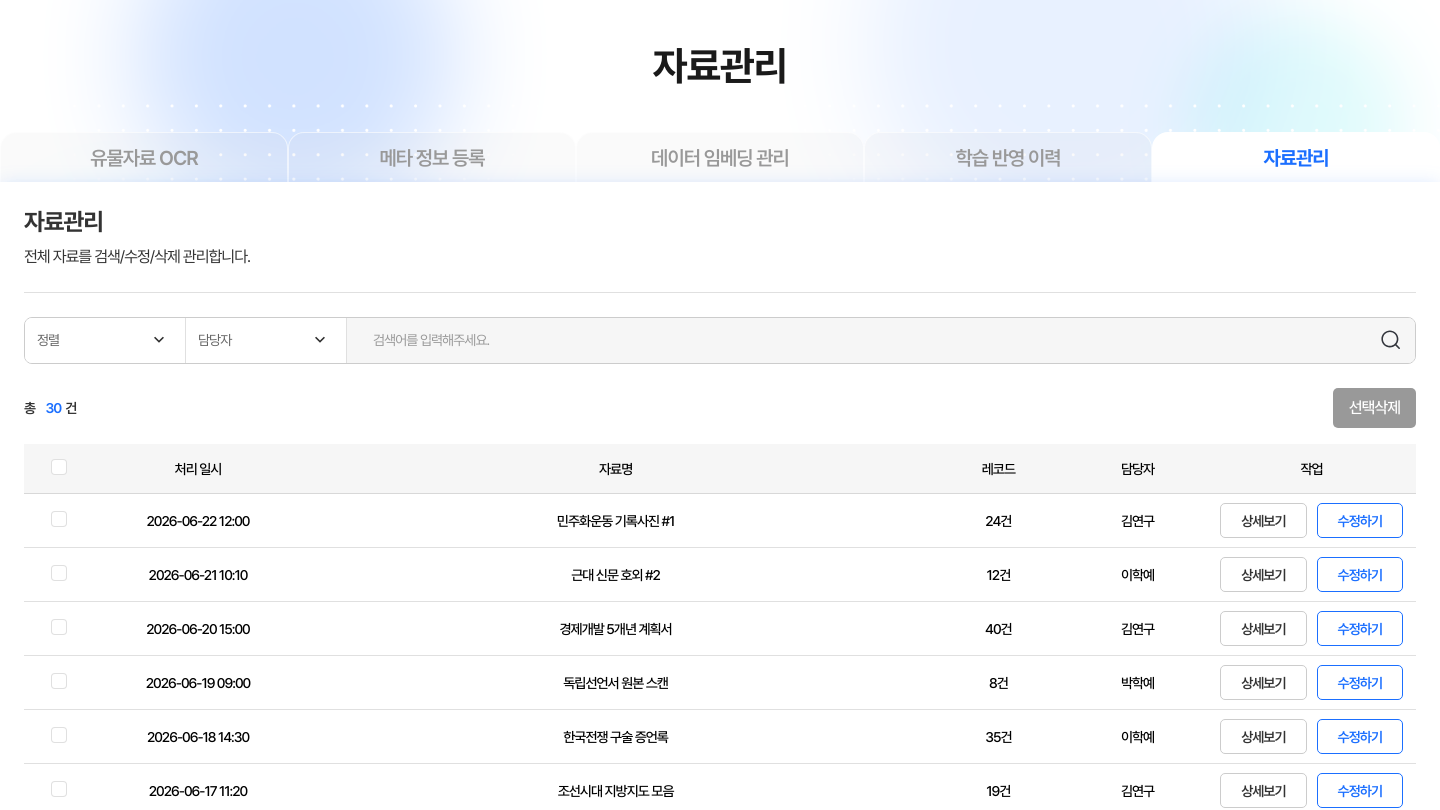
Test: Materials: 선택삭제는 준비중 — 확인창 없이 토스트만 뜨고 행은 그대로 남는다(D2a)
Expected: the button "선택삭제" is disabled, top-left (1333, 388), bottom-right (1416, 428)
Click the checkbox named "선택 d1".
click(59, 519)  # box top-left (51, 511), bottom-right (67, 527)
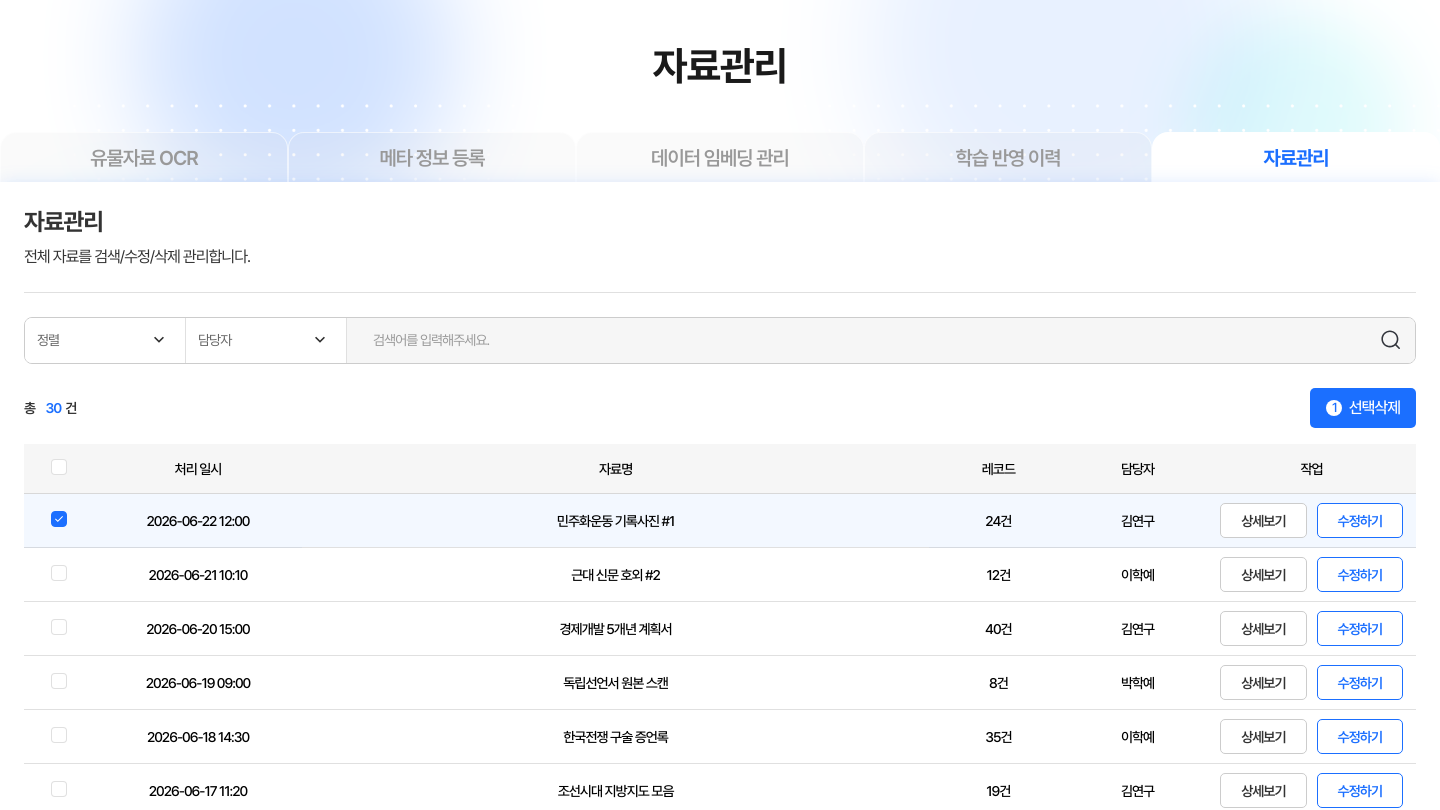
Expected: the button "1 선택삭제" is enabled
Click the button "1 선택삭제".
click(1363, 408)  # box top-left (1310, 388), bottom-right (1416, 428)
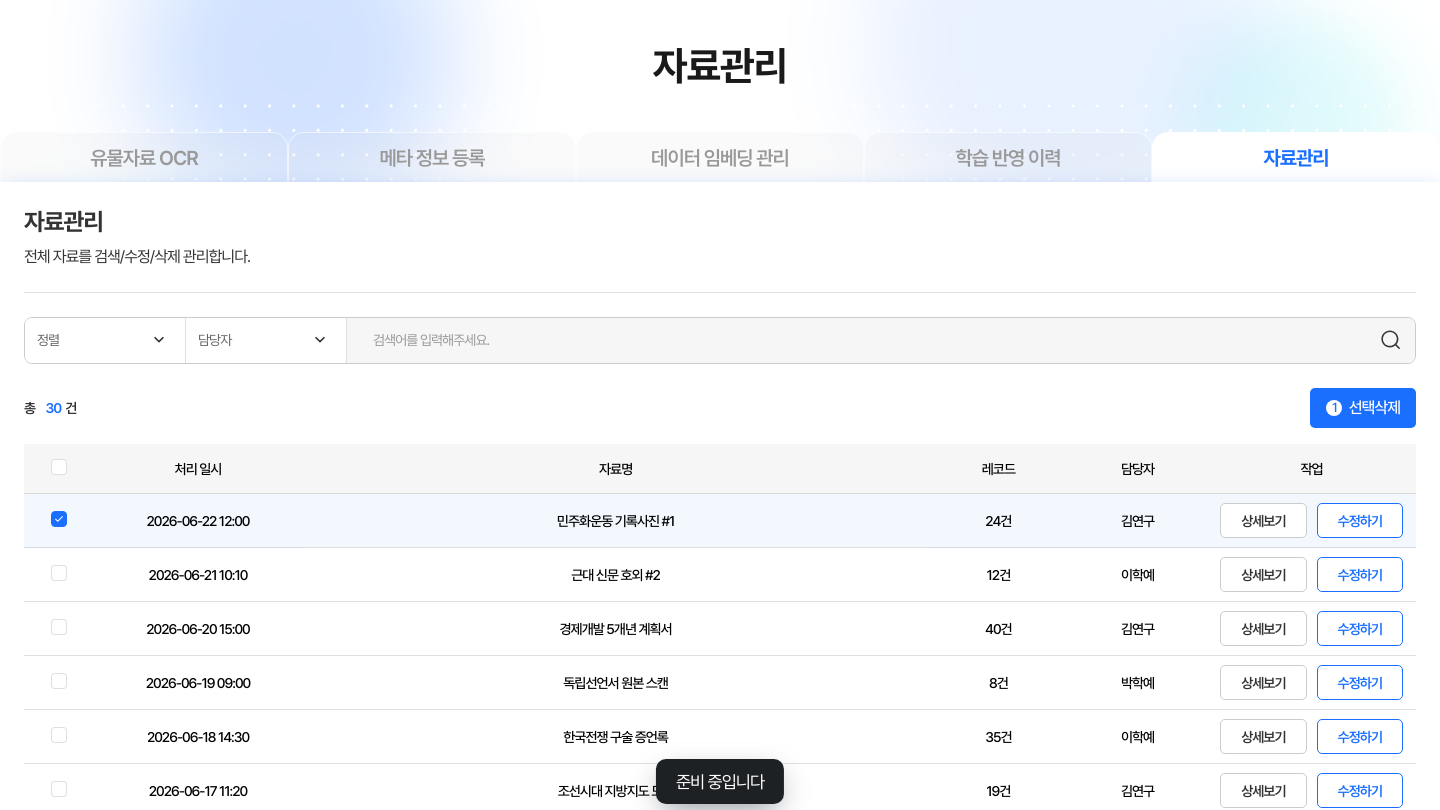
Expected: the text "민주화운동 기록사진 #1" is shown, top-left (302, 494), bottom-right (929, 548)
Expected: the message reads "준비 중입니다", top-left (676, 771), bottom-right (764, 792)
